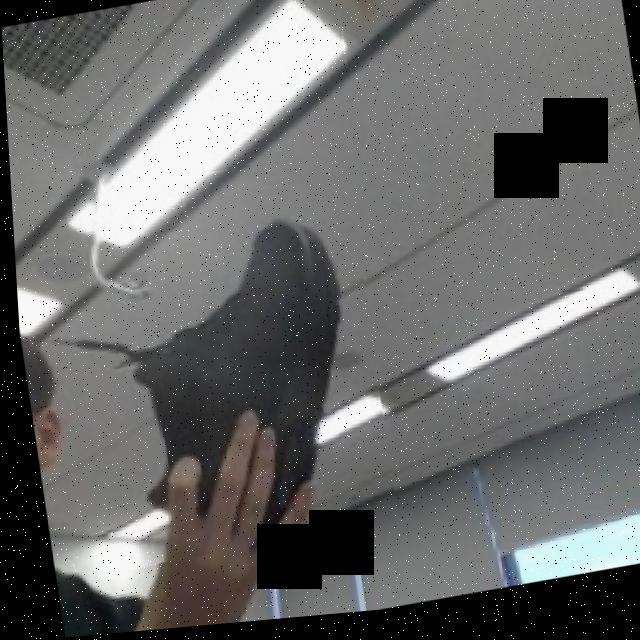shoe: (62, 203, 393, 575)
